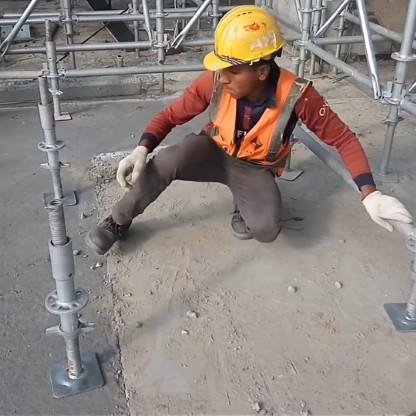helmet: (197, 4, 296, 112)
